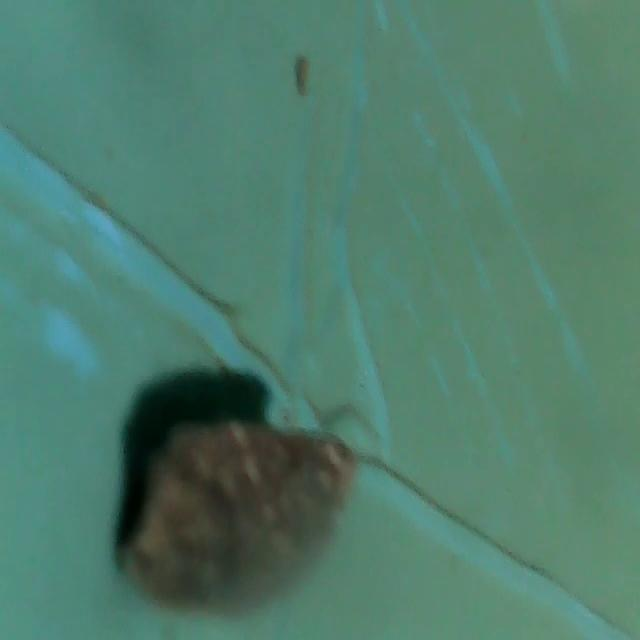rock: (123, 406, 365, 622)
